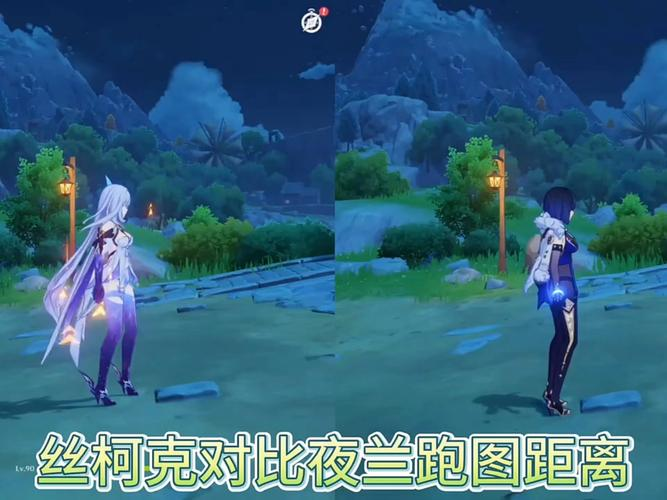夜兰: (529, 184, 582, 421)
